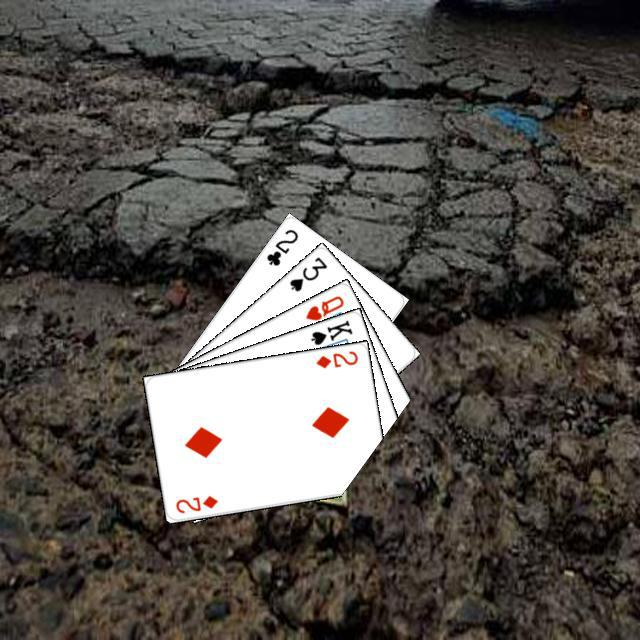2c: (261, 224, 300, 268)
2d: (171, 490, 219, 515), (311, 346, 360, 370)
3s: (284, 252, 329, 293)
Ks: (306, 315, 354, 347)
Qh: (301, 291, 345, 322)
